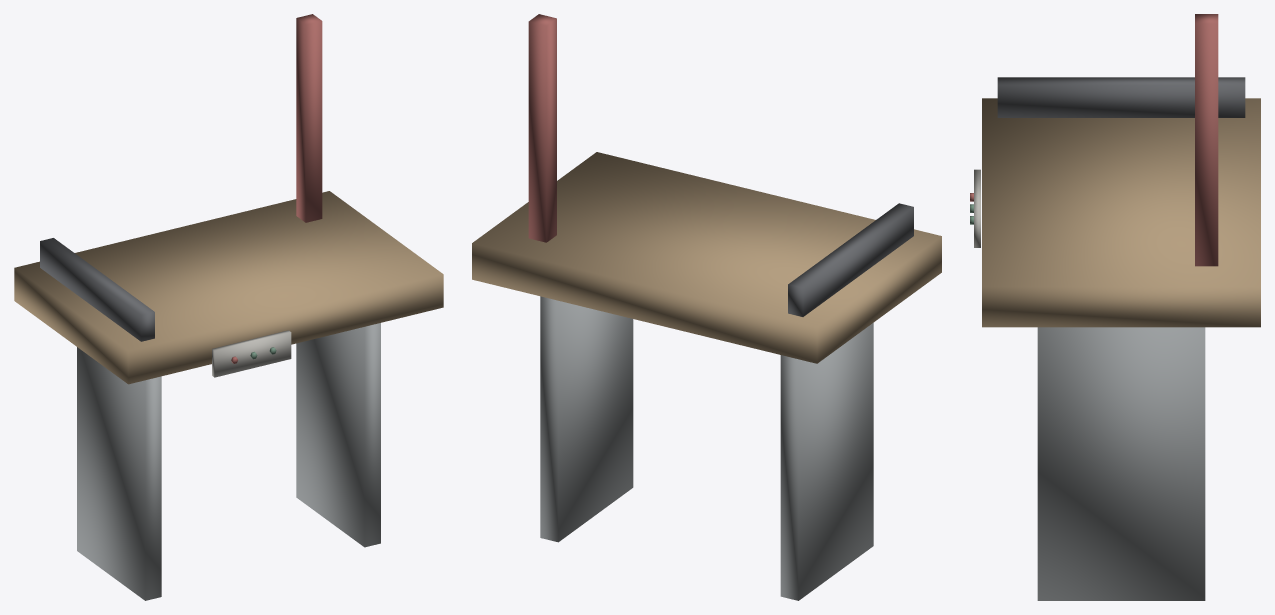
The model's file is paper_cutter__tall.glb.
The picture shows the model from 3 angles, left to right: view 1: azimuth 30°, elevation 25°; view 2: azimuth 150°, elevation 25°; view 3: azimuth 270°, elevation 25°; orthographic projection. The views are drawn at different scales.
Visible parts, largest first — view 1: world; view 2: world; view 3: world.
Boxes of the visible parts, x1,y1,x2,y2 form: world: (14, 14, 443, 600); world: (472, 14, 941, 600); world: (970, 14, 1260, 600).
Size of the model in its own units: 1.15 by 1.65 by 0.751.
